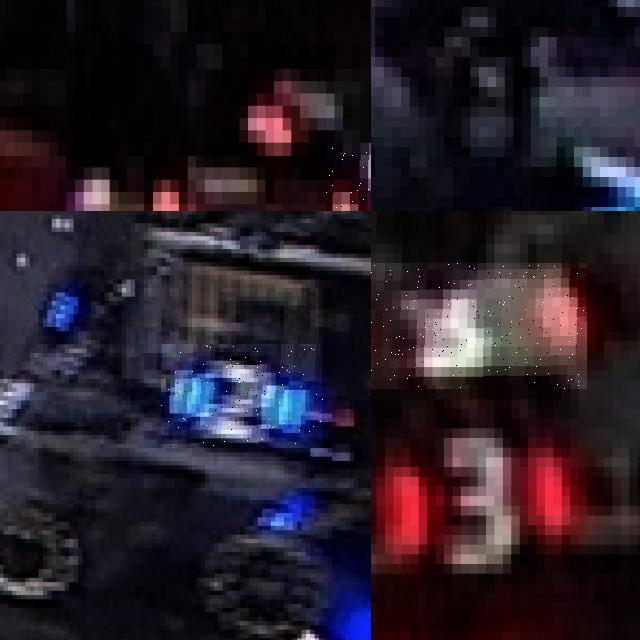B2: (162, 344, 324, 448)
R1: (326, 142, 371, 211)
R3: (371, 418, 587, 564), (371, 263, 587, 389)
